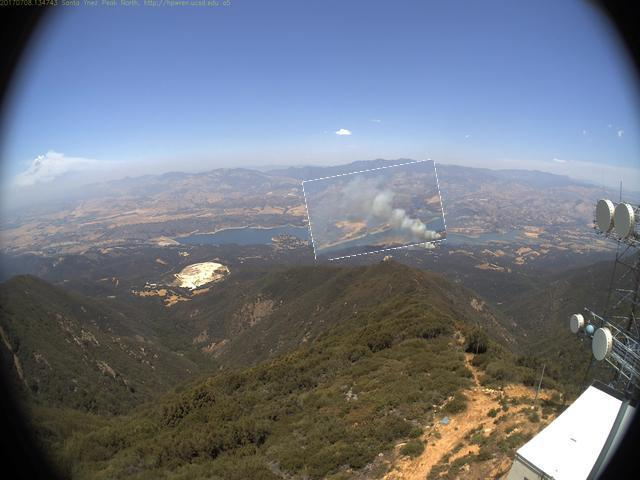smoke: (306, 166, 445, 257)
